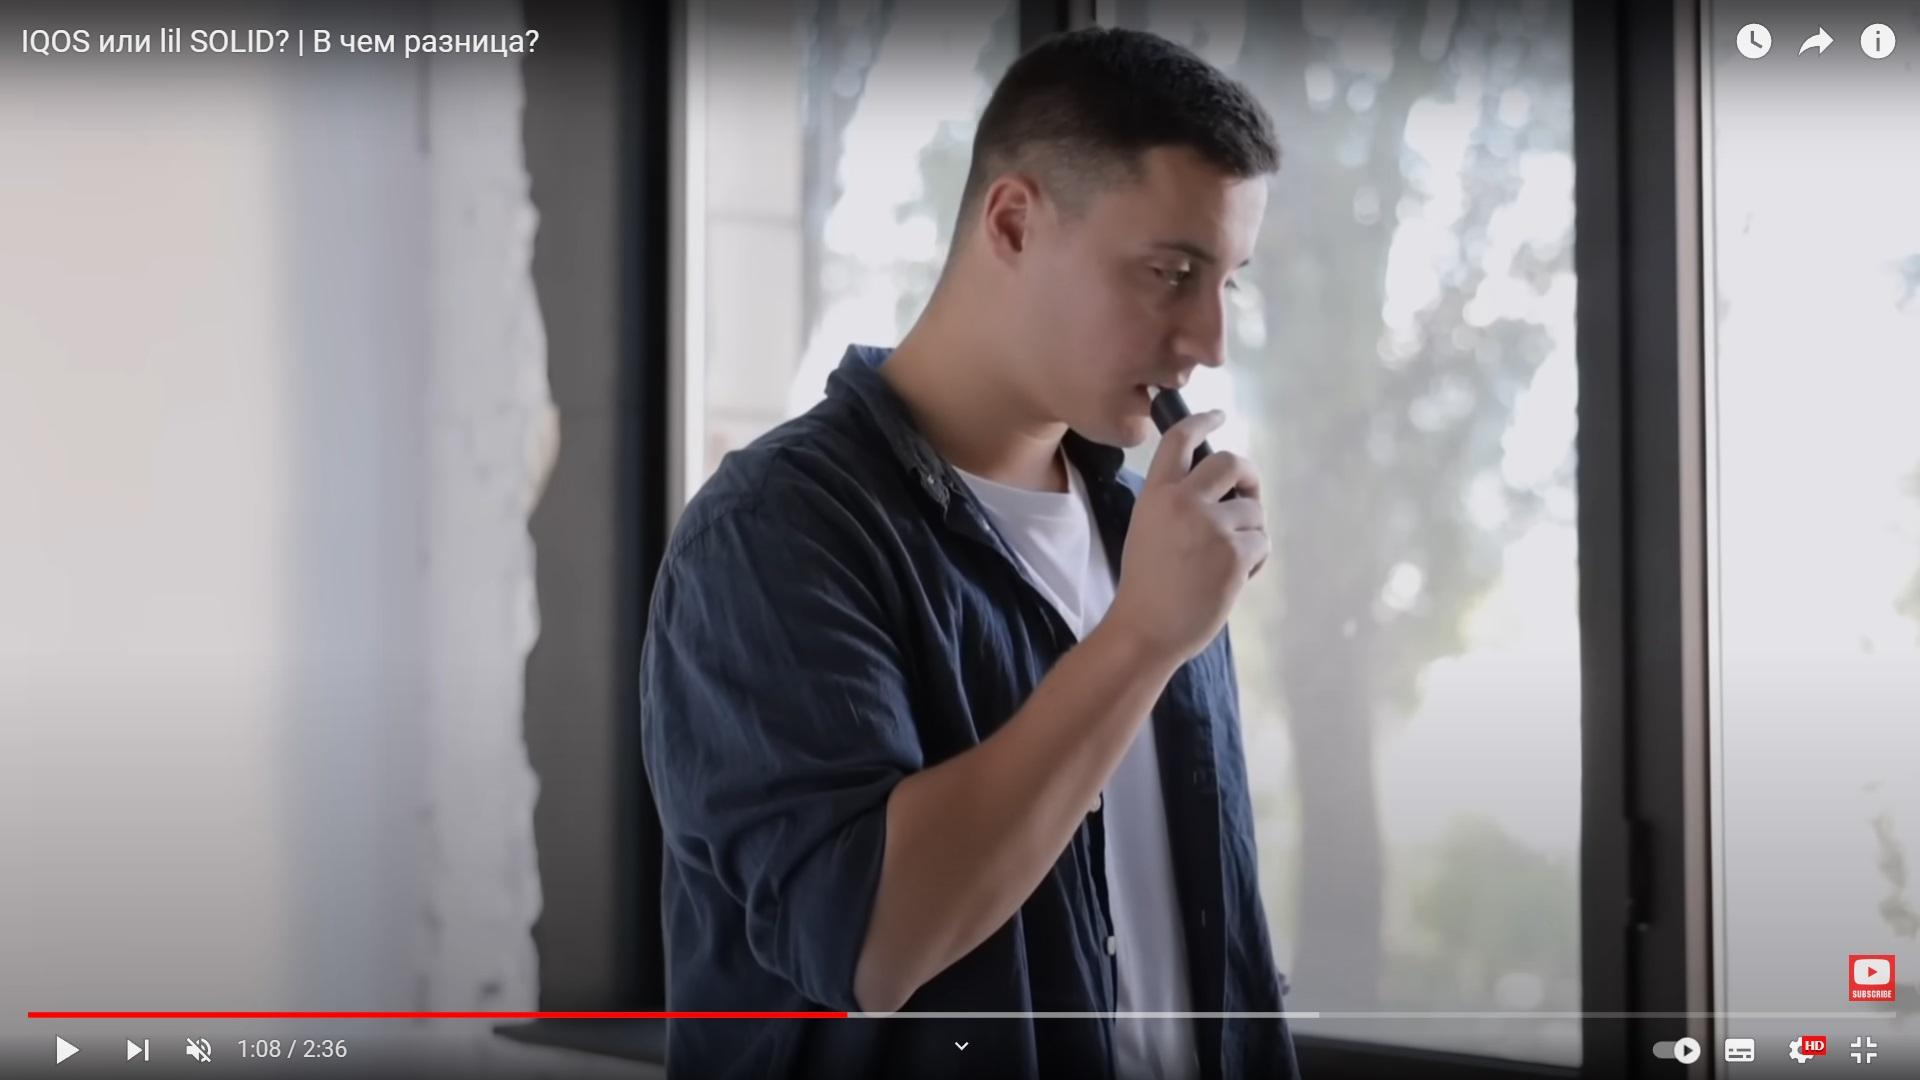iqos: (1147, 385, 1215, 472)
